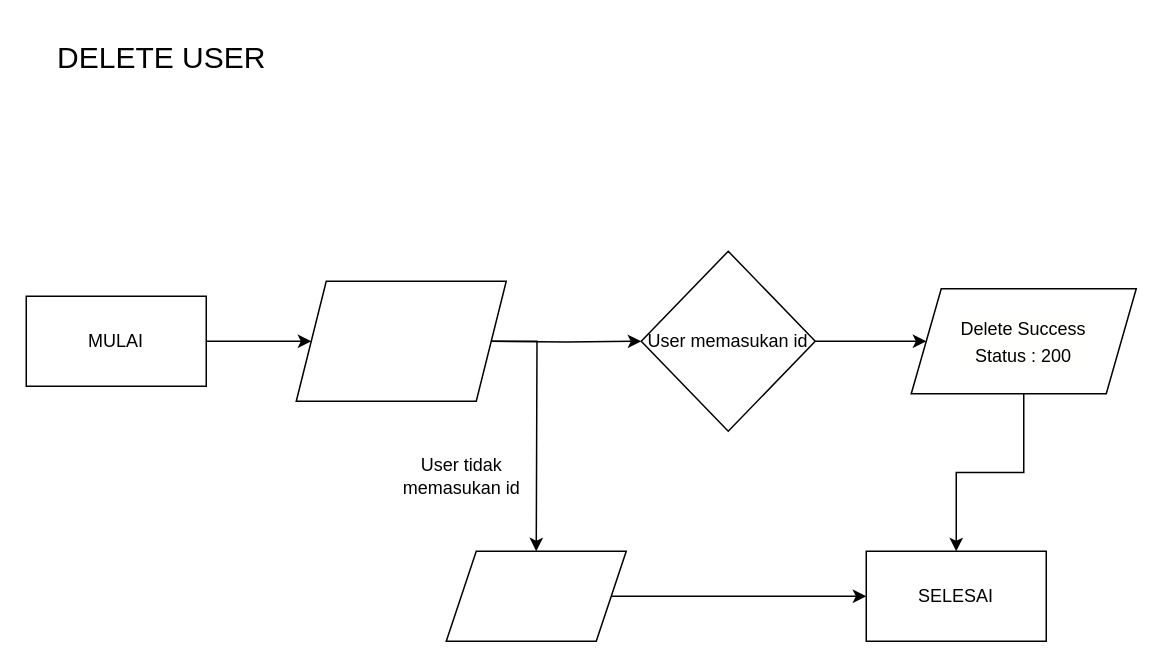
Some shapes in this 1163 by 668 pixel diagram are drawn without their labels. The centre of each missing label's shape, as x and y in pixels:
Error: Belum memasukan id Status : 400: [535,595]
User request DELETE untuk menghapus data: [400,340]
